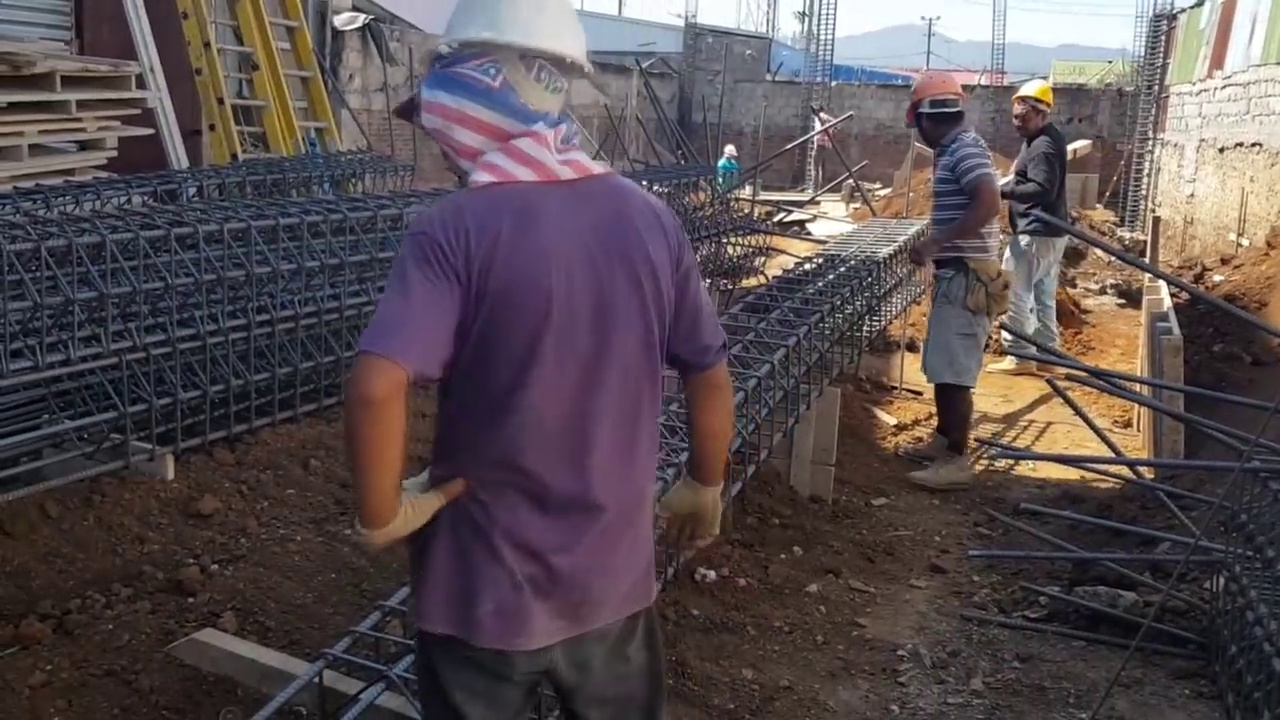helmet: (420, 3, 601, 82), (908, 70, 965, 114), (1014, 78, 1057, 107), (723, 144, 738, 158)
helmet-on: (413, 14, 598, 201), (900, 57, 972, 149), (1010, 68, 1057, 132), (721, 141, 739, 164)
person: (324, 21, 722, 720), (904, 61, 1018, 490), (1002, 75, 1084, 360), (715, 141, 739, 188)
